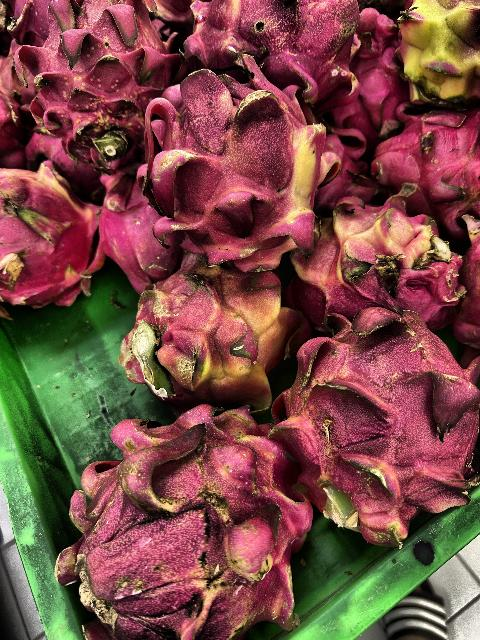buah-naga-belum-matang: (147, 68, 320, 264), (123, 255, 300, 395), (290, 208, 452, 320), (0, 150, 100, 300), (394, 1, 480, 108)
buah-naga-matang: (64, 396, 317, 640), (272, 300, 480, 536), (23, 0, 167, 154), (179, 0, 354, 84), (364, 107, 480, 225), (93, 162, 175, 280), (352, 10, 404, 126), (452, 227, 480, 341)
